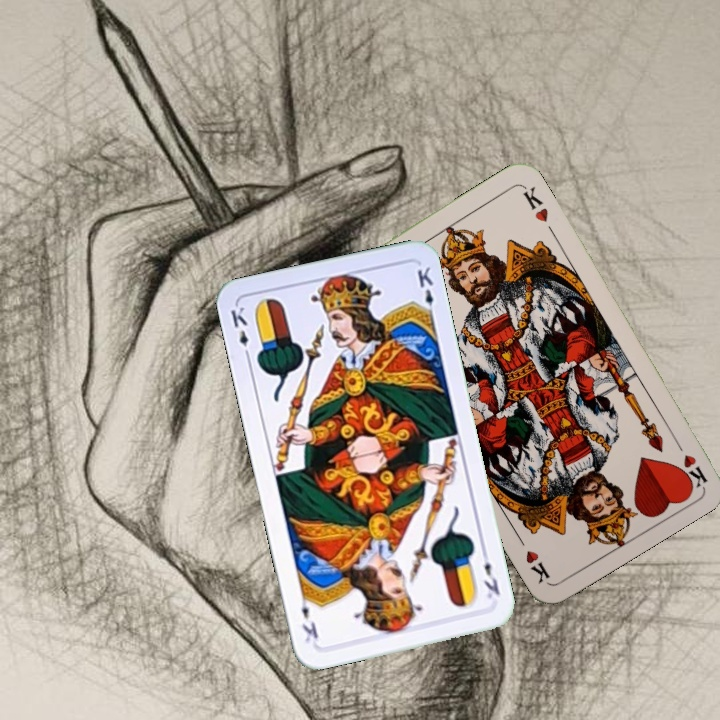EK: (226, 302, 253, 362), (477, 546, 503, 602)
HK: (669, 433, 710, 489)
